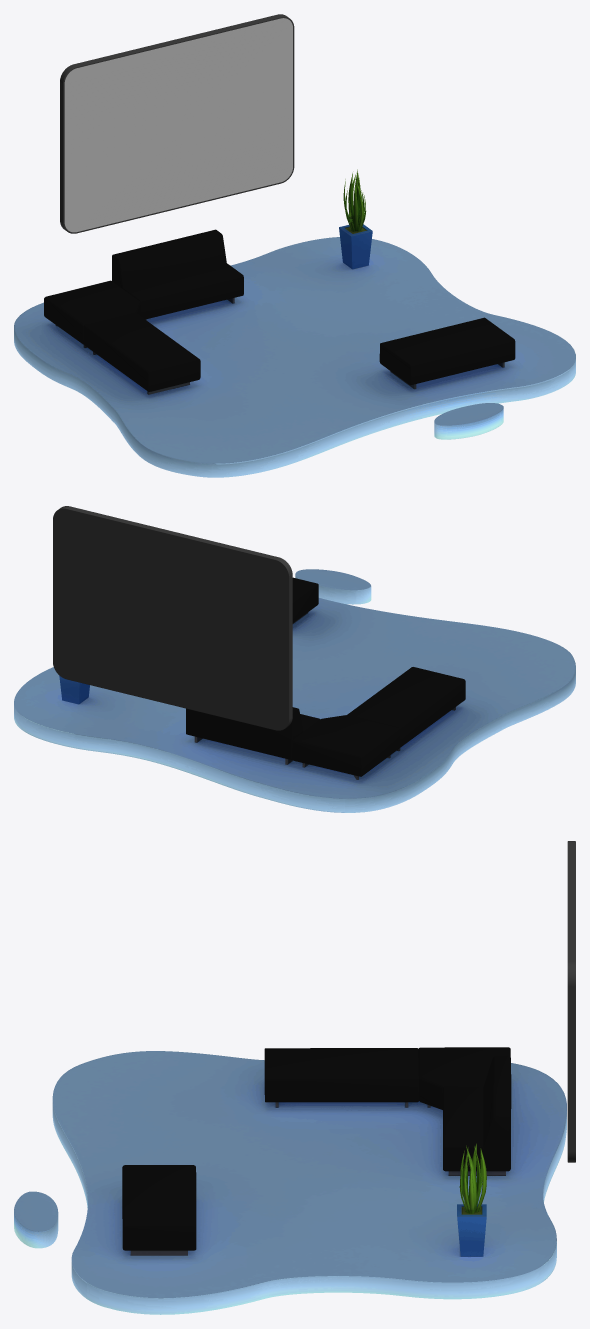
Rendered from LeviBook_Base.glb.
3 renders of one model, top to bottom at view 1: azimuth 30°, elevation 25°; view 2: azimuth 150°, elevation 25°; view 3: azimuth 270°, elevation 25°, orthographic. The views are drawn at different scales.
Parts seen in each view (by area): view 1: Base, Screen, Chairs, Scframe, Leafs; view 2: Base, Scframe, Chairs; view 3: Base, Chairs, Scframe, Leafs.
Boxes of the visible parts, <box> form: Base: <box>14,237,575,477</box>; Screen: <box>64,18,292,232</box>; Chairs: <box>44,224,515,391</box>; Scframe: <box>60,14,294,233</box>; Leafs: <box>343,169,366,233</box>; Base: <box>14,569,575,812</box>; Scframe: <box>53,506,292,730</box>; Chairs: <box>59,577,465,776</box>; Base: <box>14,1051,566,1314</box>; Chairs: <box>122,1047,511,1256</box>; Scframe: <box>567,841,575,1162</box>; Leafs: <box>459,1143,486,1214</box>.
Size of the model in its own units: 2.19 by 1.18 by 2.11.
Materials: 7 (5 with a texture image).
